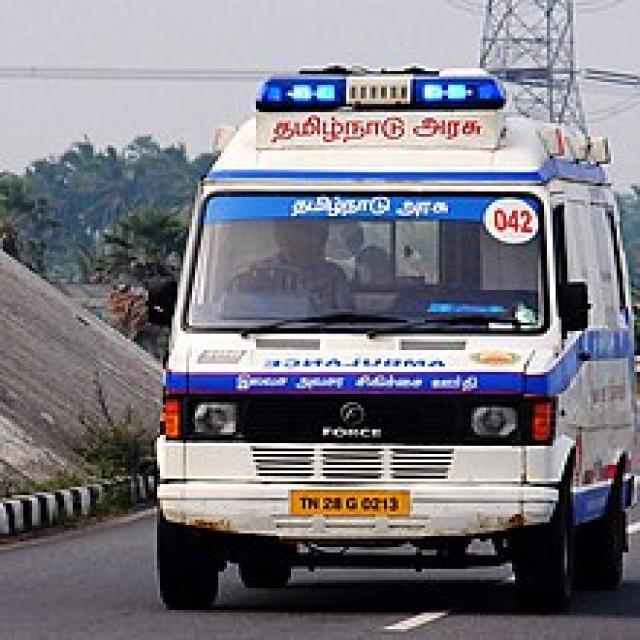ambulance: (165, 59, 637, 603)
